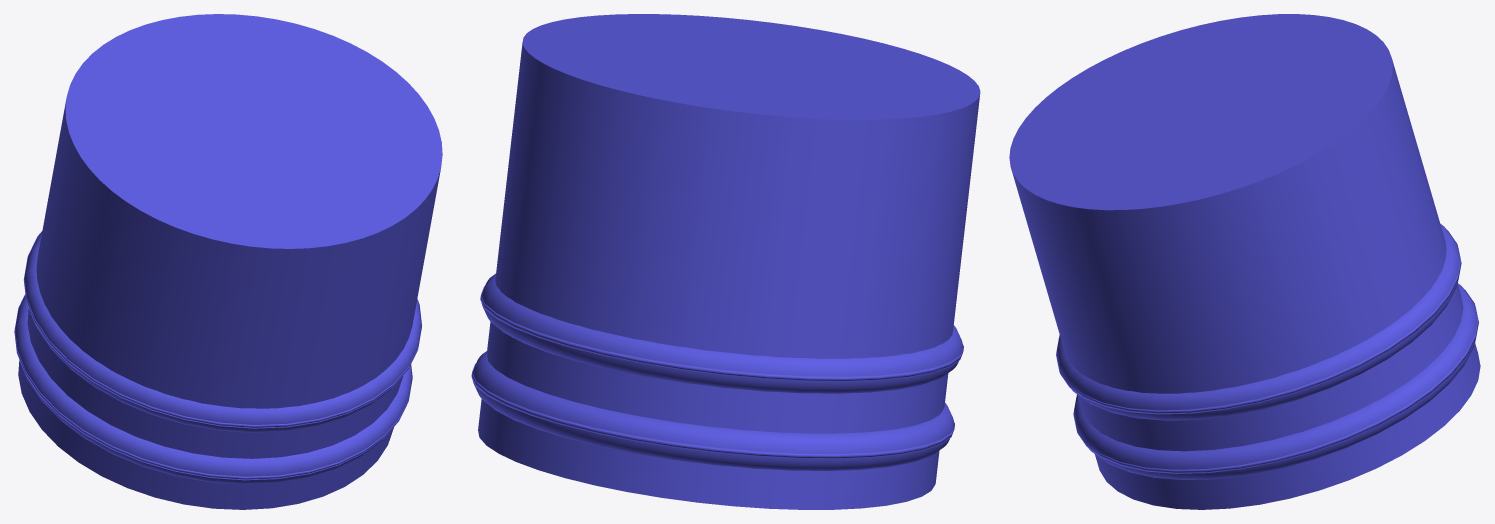
File: bombilla213.obj
3 views of the same model, side by side, from view 1: azimuth 30°, elevation 25°; view 2: azimuth 150°, elevation 25°; view 3: azimuth 270°, elevation 25° (orthographic). The views are drawn at different scales.
Parts seen in each view (by area): view 1: Cylinder001, Cylinder004, Cylinder002, Cylinder003, Cylinder006; view 2: Cylinder001, Cylinder003, Cylinder004, Cylinder006, Cylinder002; view 3: Cylinder001, Cylinder004, Cylinder003, Cylinder002, Cylinder006.
Boxes of the visible parts, x1=… form: Cylinder001: x1=36, y1=14, x2=442, y2=408; Cylinder004: x1=14, y1=294, x2=412, y2=484; Cylinder002: x1=23, y1=231, x2=421, y2=432; Cylinder003: x1=27, y1=308, x2=403, y2=458; Cylinder006: x1=18, y1=360, x2=393, y2=509; Cylinder001: x1=495, y1=14, x2=980, y2=358; Cylinder003: x1=486, y1=321, x2=948, y2=433; Cylinder004: x1=471, y1=351, x2=954, y2=471; Cylinder006: x1=478, y1=399, x2=939, y2=509; Cylinder002: x1=480, y1=273, x2=963, y2=393; Cylinder001: x1=1009, y1=14, x2=1446, y2=393; Cylinder004: x1=1073, y1=283, x2=1478, y2=479; Cylinder003: x1=1077, y1=284, x2=1463, y2=451; Cylinder002: x1=1056, y1=224, x2=1461, y2=420; Cylinder006: x1=1095, y1=343, x2=1480, y2=509.
Size of the model in its own units: 72.45 by 75.02 by 81.35.
